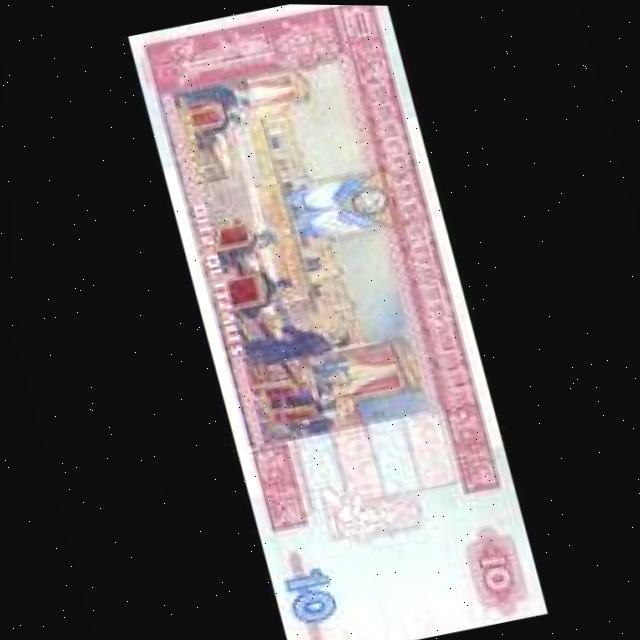banknote: (127, 1, 543, 640)
